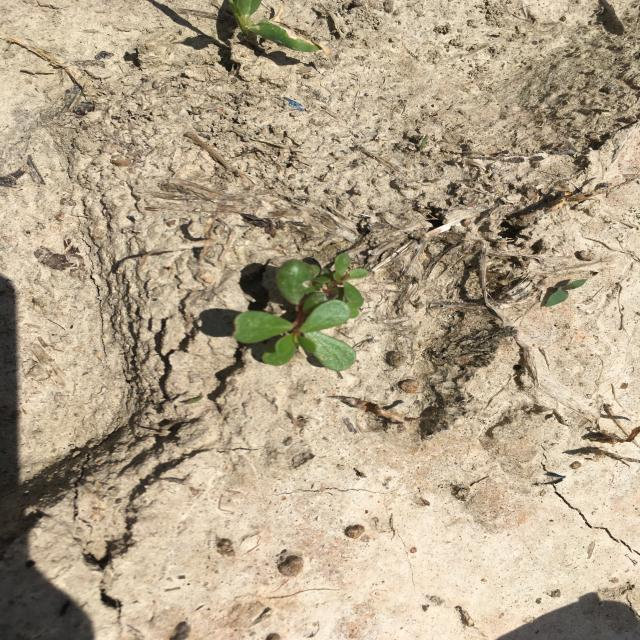Purslane: (233, 253, 368, 371)
